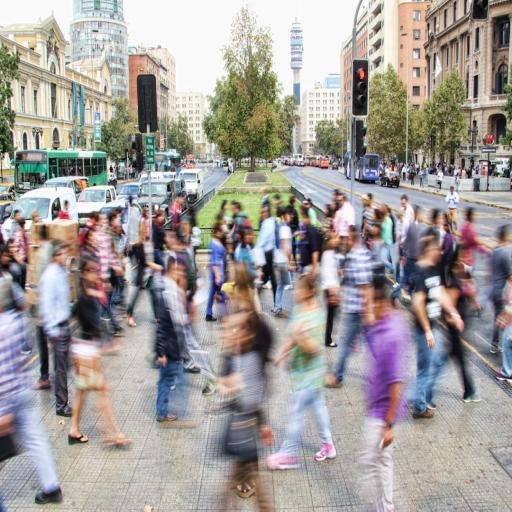face: (82, 262, 99, 285), (54, 249, 66, 267), (0, 251, 12, 267)
